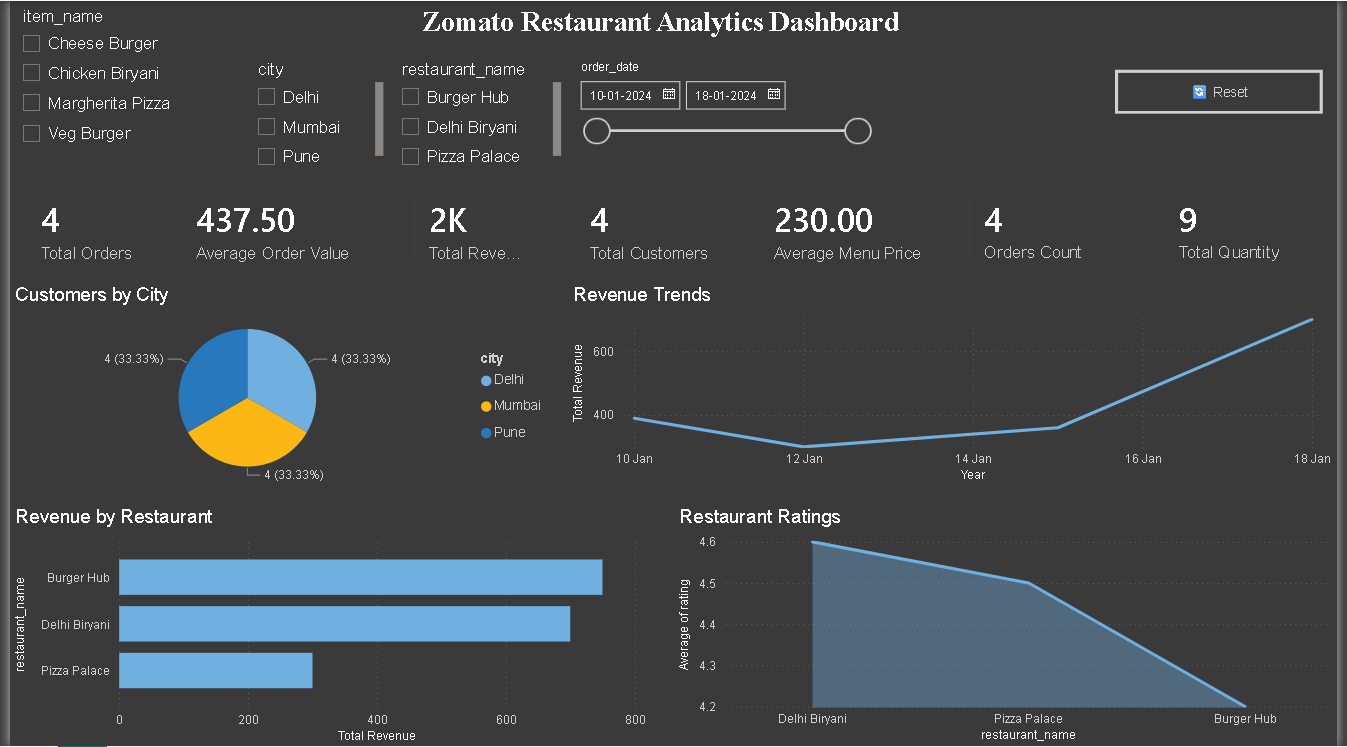

This screenshot's page, from the dashboard's own definition file:
{"tool":"powerbi","page":{"name":"Page 1","canvas":[1280,720],"ordinal":0},"visuals":[{"type":"barChart","title":"Revenue by Restaurant","fields":{"Category":["zomato_analytics restaurants.restaurant_name"],"Y":["zomato_analytics customers.Total Revenue"]},"box":[0,486.9,619.1,233.6],"z":0},{"type":"areaChart","title":"Restaurant Ratings","fields":{"Category":["zomato_analytics restaurants.restaurant_name"],"Y":["Avg(zomato_analytics restaurants.rating)"]},"box":[640.1,486.9,640.1,232.3],"z":1000},{"type":"cardVisual","fields":{"Data":["zomato_analytics customers.Total Revenue"]},"box":[374.4,166.8,155.7,106.3],"z":2000},{"type":"cardVisual","fields":{"Data":["zomato_analytics customers.Total Orders"]},"box":[0,166.8,149.5,106.3],"z":3000},{"type":"cardVisual","fields":{"Data":["zomato_analytics customers.Total Customers"]},"box":[530.1,166.8,176.7,106.3],"z":4000},{"type":"cardVisual","fields":{"Data":["zomato_analytics customers.Average Order Value"]},"box":[149.5,166.8,224.9,107.5],"z":5000},{"type":"cardVisual","fields":{"Data":["zomato_analytics customers.Average Menu Price"]},"box":[706.9,166.8,202.7,107.5],"z":6000},{"type":"cardVisual","fields":{"Data":["zomato_analytics customers.Total Quantity"]},"box":[1097.4,166.8,182.9,105],"z":7000},{"type":"pieChart","title":"Customers by City","fields":{"Y":["CountNonNull(zomato_analytics orders.customer_id)"],"Category":["zomato_analytics restaurants.city"]},"box":[0,273.1,527.7,200.2],"z":8000},{"type":"cardVisual","fields":{"Data":["zomato_analytics customers.Orders Count"]},"box":[909.5,166.8,189.1,105],"z":9000},{"type":"lineChart","title":"Revenue Trends","fields":{"Y":["zomato_analytics customers.Total Revenue"],"Category":["zomato_analytics orders.order_date.Variation.Date Hierarchy.Year","zomato_analytics orders.order_date.Variation.Date Hierarchy.Quarter","zomato_analytics orders.order_date.Variation.Date Hierarchy.Month","zomato_analytics orders.order_date.Variation.Date Hierarchy.Day"]},"box":[537.6,273.1,742.7,196.5],"z":10000},{"type":"slicer","fields":{"Values":["zomato_analytics restaurants.city"]},"box":[227.4,51.9,138.4,114.9],"z":11000},{"type":"slicer","fields":{"Values":["zomato_analytics restaurants.restaurant_name"]},"box":[365.8,51.9,171.8,114.9],"z":12000},{"type":"slicer","fields":{"Values":["zomato_analytics menu.item_name"]},"box":[0,0,227.4,166.8],"z":13000},{"type":"slicer","fields":{"Values":["zomato_analytics orders.order_date"]},"box":[537.6,51.9,301.5,114.9],"z":14000},{"type":"textbox","box":[386.8,0,601.8,53.1],"z":15000},{"type":"actionButton","box":[1066.3,66,200.5,42.8],"z":15001}]}

Visuals, with their boxes in screenshot pixels (x1, y1, x2, y2), scaled from the page's 1280x720 canvas onto the 1347x747 screenshot:
"Revenue by Restaurant" barChart: box(0, 505, 652, 746)
"Restaurant Ratings" areaChart: box(674, 505, 1346, 746)
cardVisual - zomato_analytics customers.Total Revenue: box(394, 173, 558, 283)
cardVisual - zomato_analytics customers.Total Orders: box(0, 173, 157, 283)
cardVisual - zomato_analytics customers.Total Customers: box(558, 173, 744, 283)
cardVisual - zomato_analytics customers.Average Order Value: box(157, 173, 394, 285)
cardVisual - zomato_analytics customers.Average Menu Price: box(744, 173, 957, 285)
cardVisual - zomato_analytics customers.Total Quantity: box(1155, 173, 1346, 282)
"Customers by City" pieChart: box(0, 283, 555, 491)
cardVisual - zomato_analytics customers.Orders Count: box(957, 173, 1156, 282)
"Revenue Trends" lineChart: box(566, 283, 1346, 487)
slicer - zomato_analytics restaurants.city: box(239, 54, 385, 173)
slicer - zomato_analytics restaurants.restaurant_name: box(385, 54, 566, 173)
slicer - zomato_analytics menu.item_name: box(0, 0, 239, 173)
slicer - zomato_analytics orders.order_date: box(566, 54, 883, 173)
textbox: box(407, 0, 1040, 55)
actionButton: box(1122, 68, 1333, 113)
